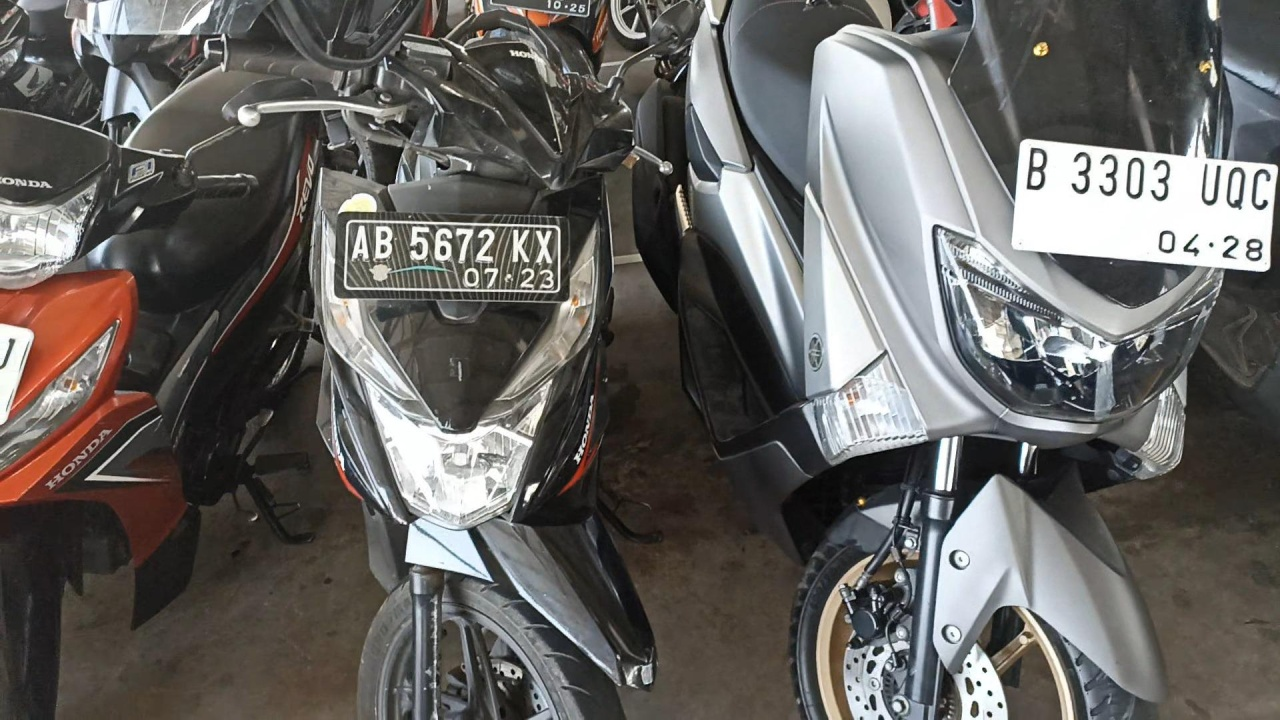plate: (1011, 138, 1277, 272), (345, 220, 560, 293)
